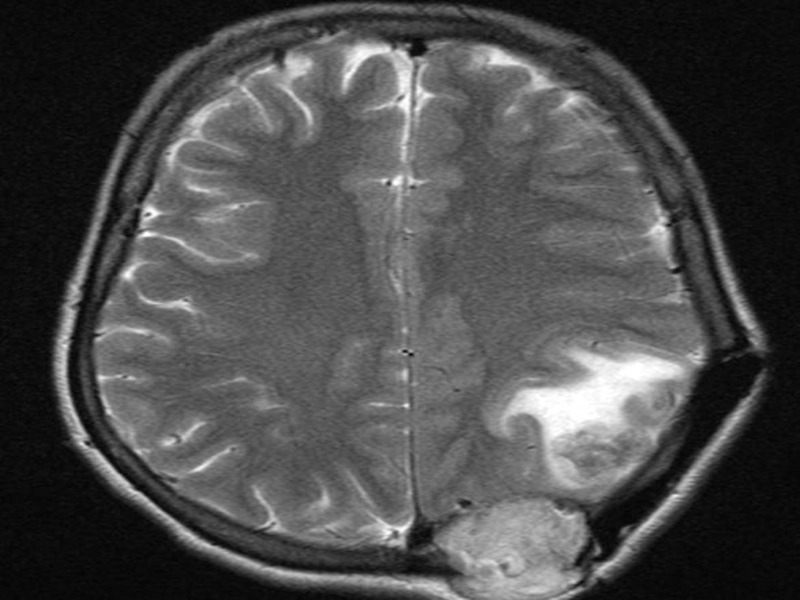tumor: (482, 334, 706, 458)
